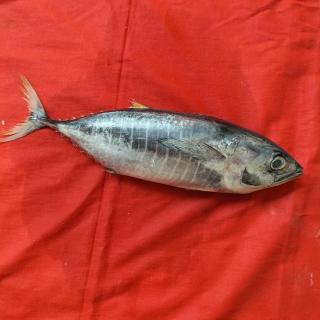Ikan: (1, 63, 311, 218)
